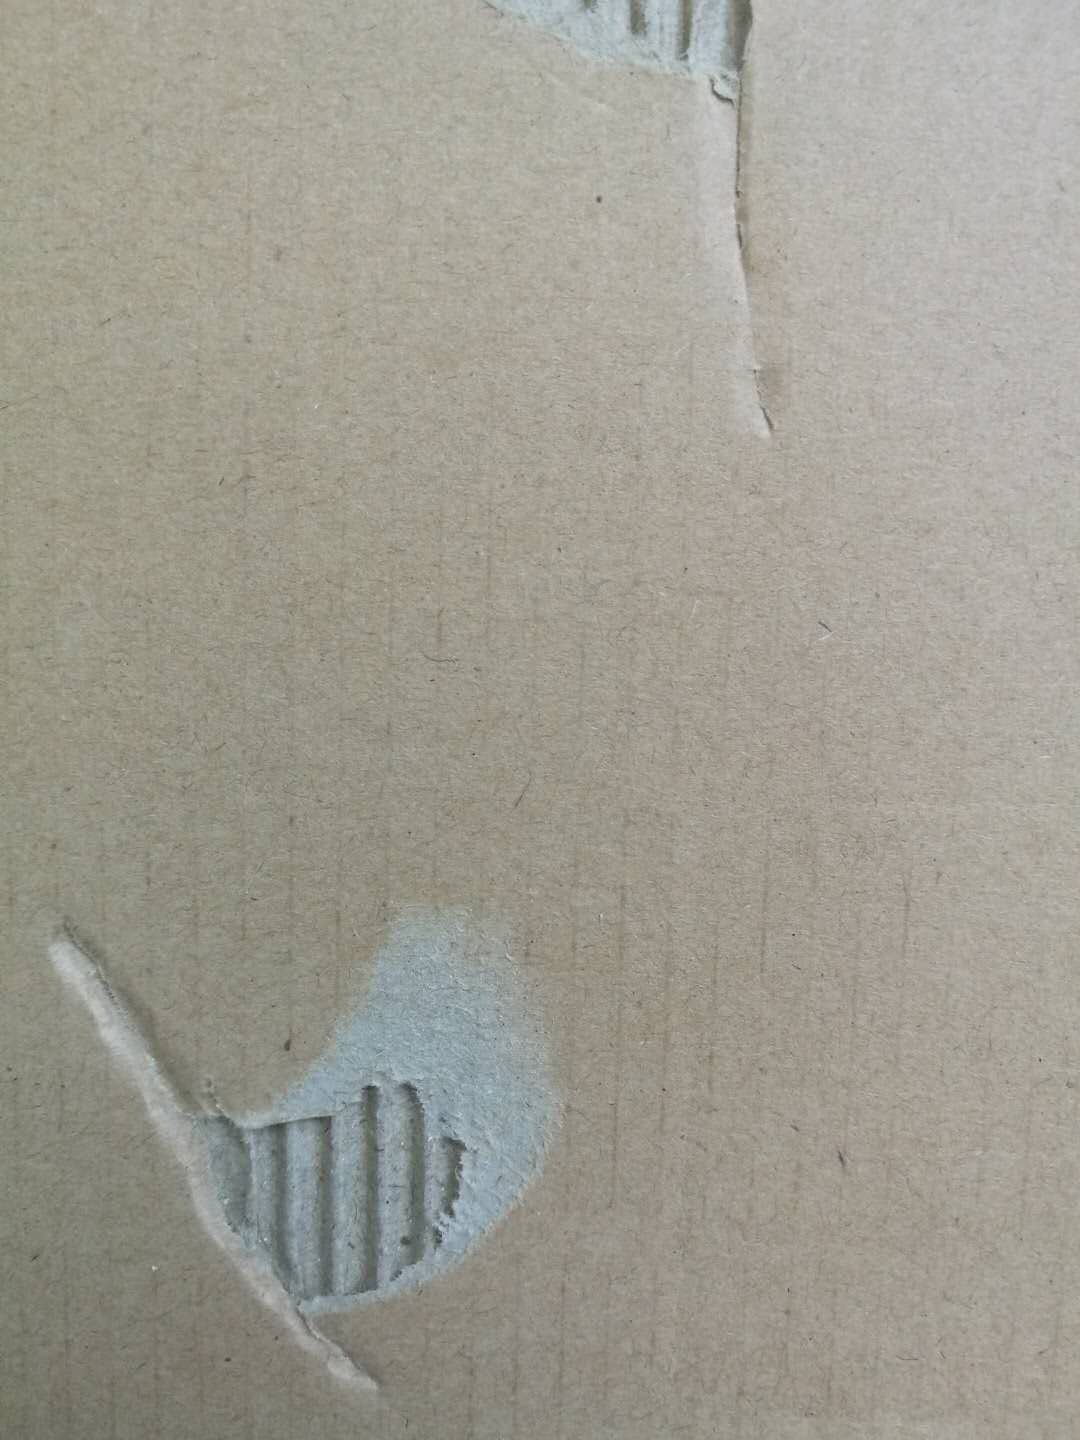defect: (26, 855, 619, 1407), (455, 1, 815, 471)
